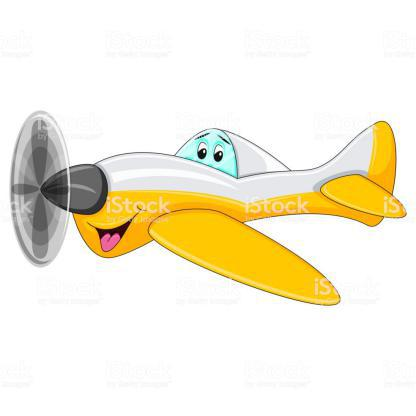CIV_Plane: (6, 107, 407, 318)
